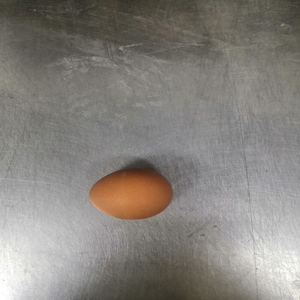brown egg: (88, 167, 174, 220)
